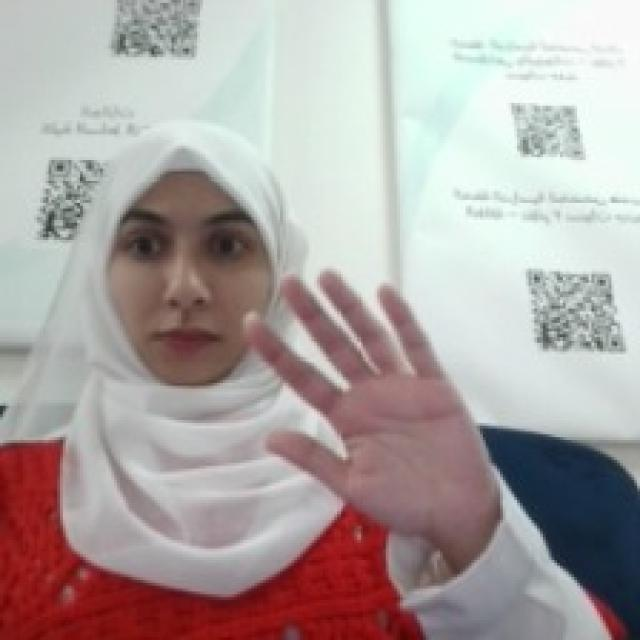Hello: (248, 254, 483, 529)
